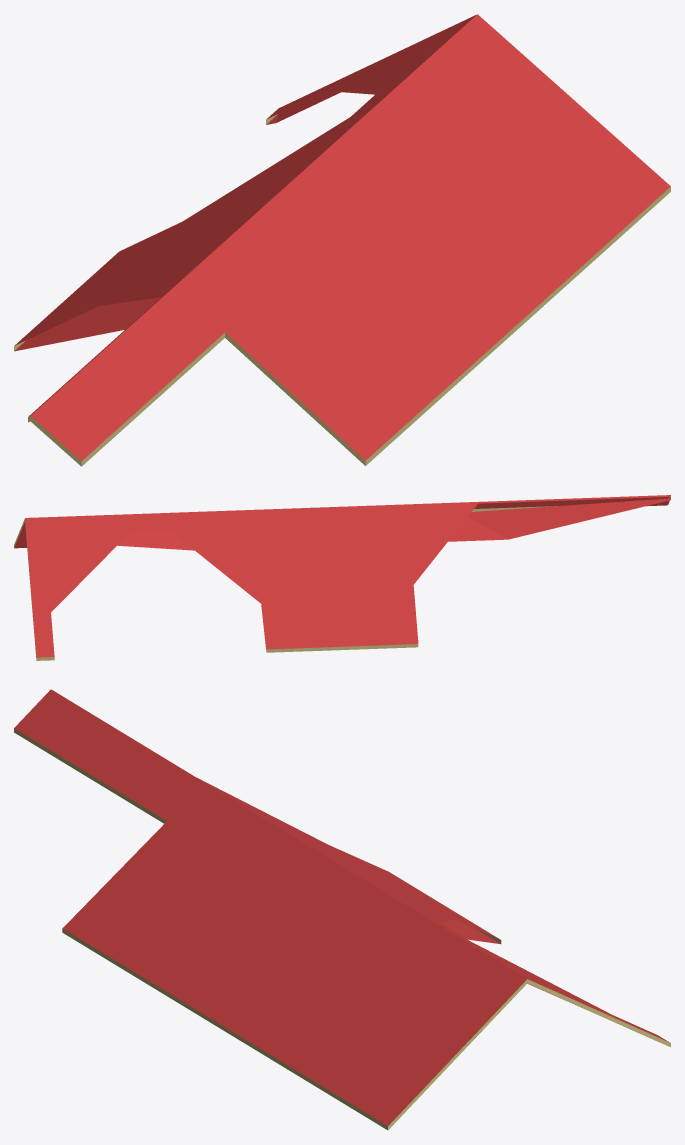
The picture shows the model from 3 angles, top to bottom: view 1: azimuth 30°, elevation 25°; view 2: azimuth 150°, elevation 25°; view 3: azimuth 270°, elevation 25°; orthographic projection. The views are drawn at different scales.
Size of the model in its own units: 16.63 by 13.94 by 2.59.
